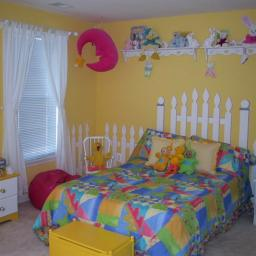Cama: (47, 146, 245, 218)
Ventana: (13, 29, 60, 155)
